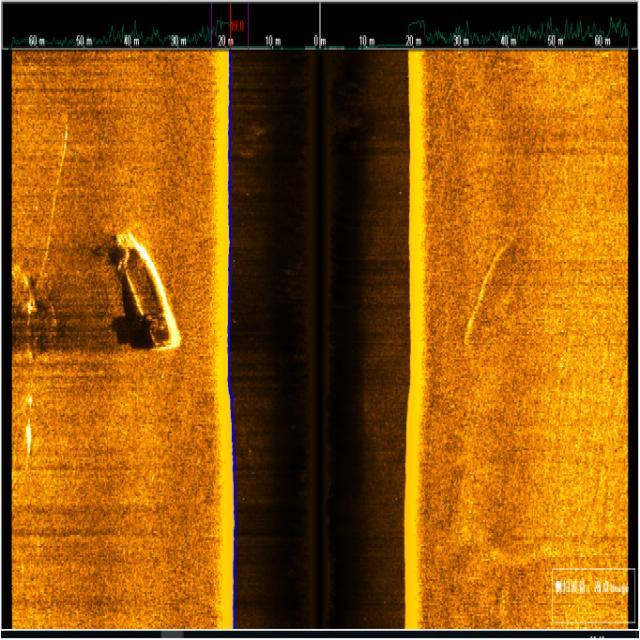shipwreck: (112, 226, 182, 354)
